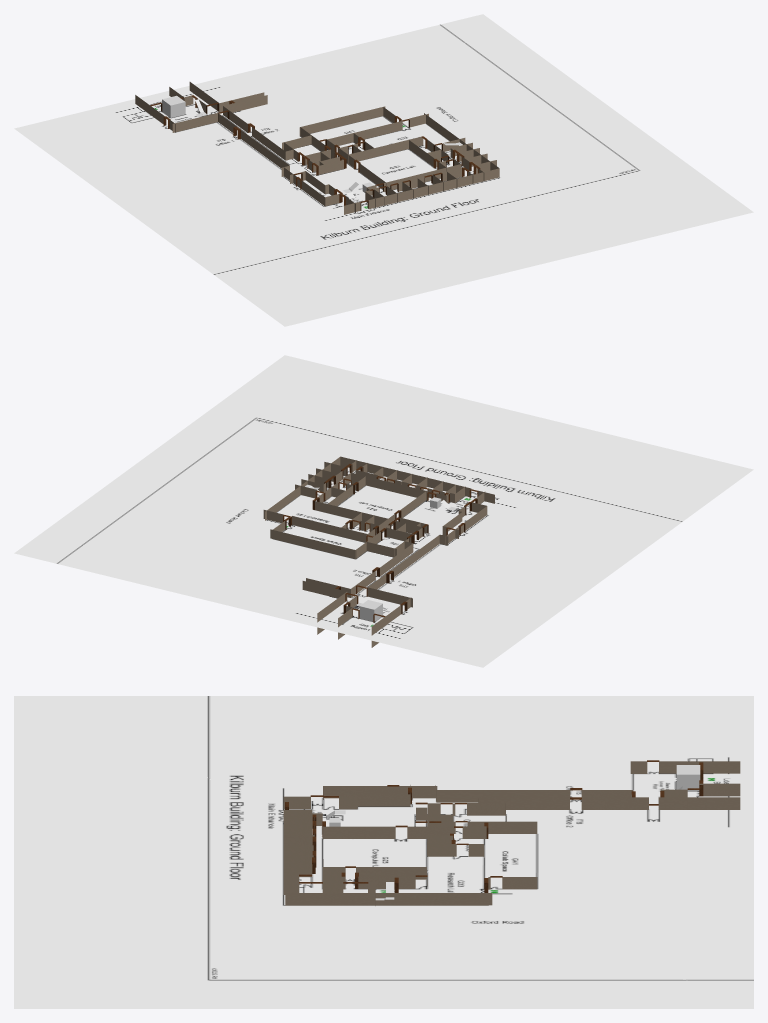
Rendered from GFloor.glb.
The picture shows the model from 3 angles, top to bottom: view 1: azimuth 30°, elevation 25°; view 2: azimuth 150°, elevation 25°; view 3: azimuth 270°, elevation 25°; orthographic projection. The views are drawn at different scales.
Parts seen in each view (by area): view 1: ground_aligned, Walls, Cube.017; view 2: ground_aligned, Walls, Cube.017; view 3: ground_aligned, Walls, Cube.017, GoodsLift.
Boxes of the visible parts, x1,y1,x2,y2 form: ground_aligned: (14, 14, 753, 326); Walls: (135, 82, 499, 214); Cube.017: (150, 95, 480, 210); ground_aligned: (14, 355, 753, 667); Walls: (263, 456, 494, 647); Cube.017: (283, 464, 478, 622); ground_aligned: (14, 696, 753, 1008); Walls: (283, 761, 740, 905); Cube.017: (285, 760, 703, 892); GoodsLift: (676, 765, 700, 791).
Size of the model in its own units: 19.63 by 0.9862 by 19.63.
4 materials, 4 textured.
